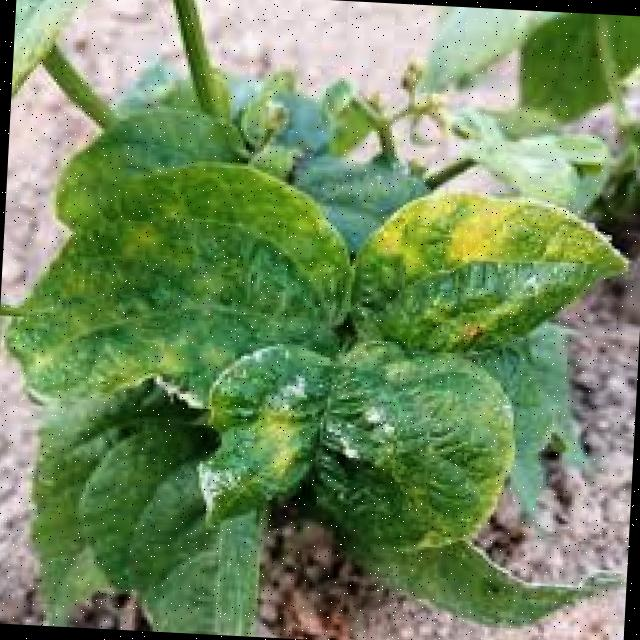leaf curl: (0, 119, 620, 615)
